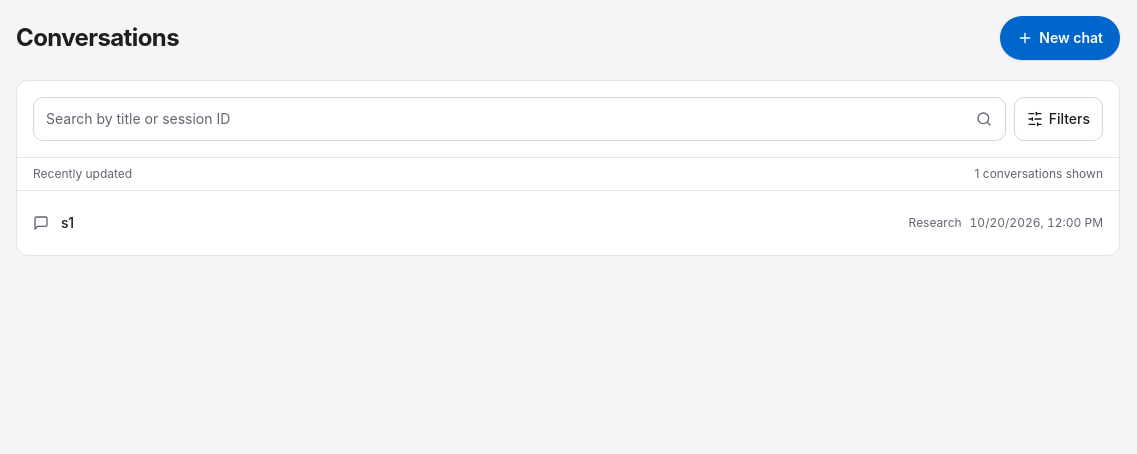
Test case: sessions 全局列表 › 日期条件按本地整天转换，错误范围不请求，空搜索可重置
The image size is (1137, 454).
Expected: the heading "s1" is shown, left=61, top=213, right=74, bottom=233
Expected: the field labelled "Updated from" is not shown
Click the button "Filters" at (1058, 119), box left=1014, top=97, right=1103, bottom=141
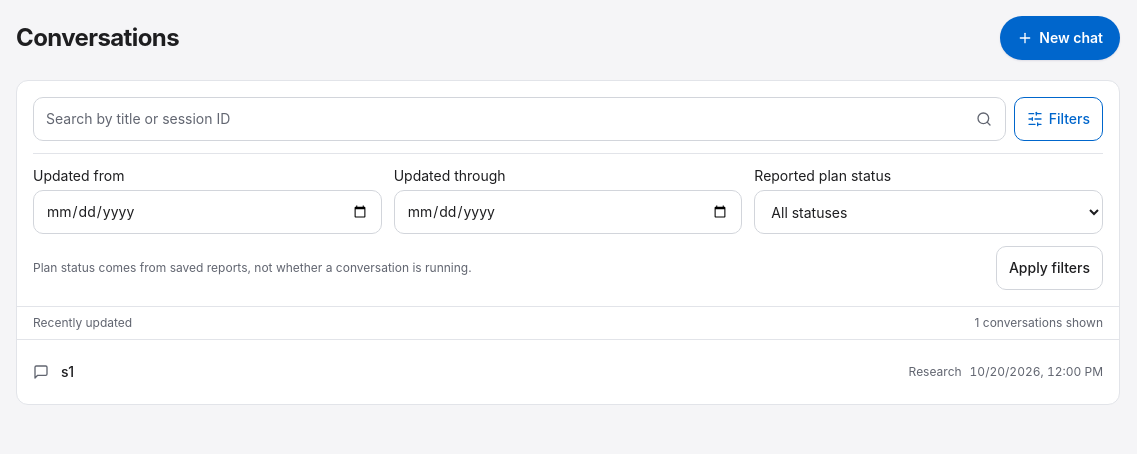
Type "2026-10-22" into the date field labelled "Updated from" at (207, 212), box left=33, top=190, right=382, bottom=234
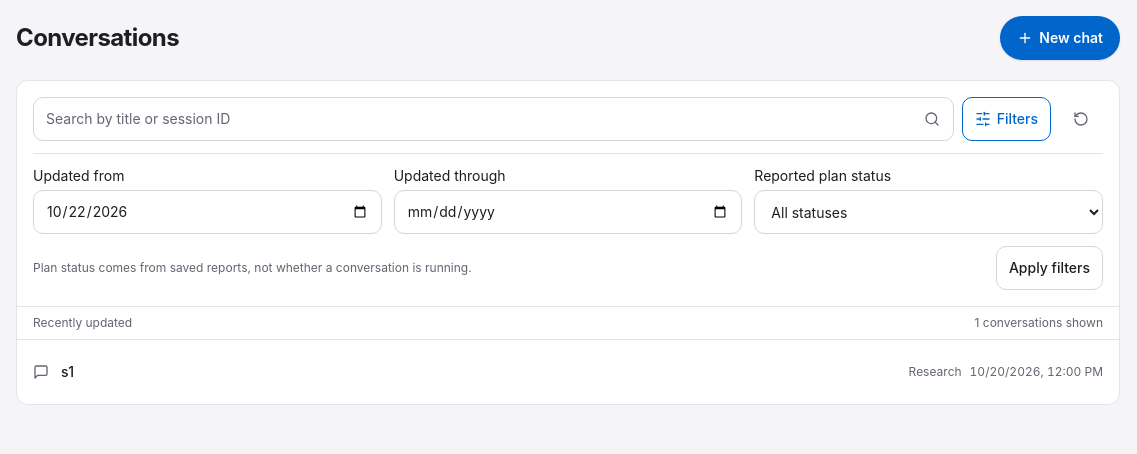
Type "2026-10-20" into the date field labelled "Updated through" at (568, 212), box left=394, top=190, right=742, bottom=234
Click the button named "Search" at (932, 119), box left=910, top=97, right=954, bottom=141
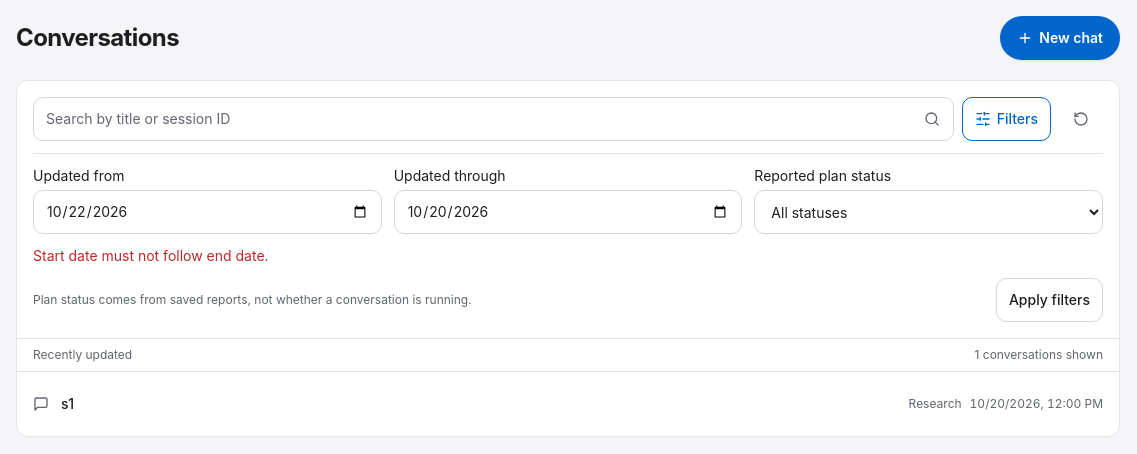
Now the message reads "Start date must not follow end date.", box left=33, top=247, right=269, bottom=264
Type "2026-10-20" into the date field labelled "Updated from" at (207, 212), box left=33, top=190, right=382, bottom=234
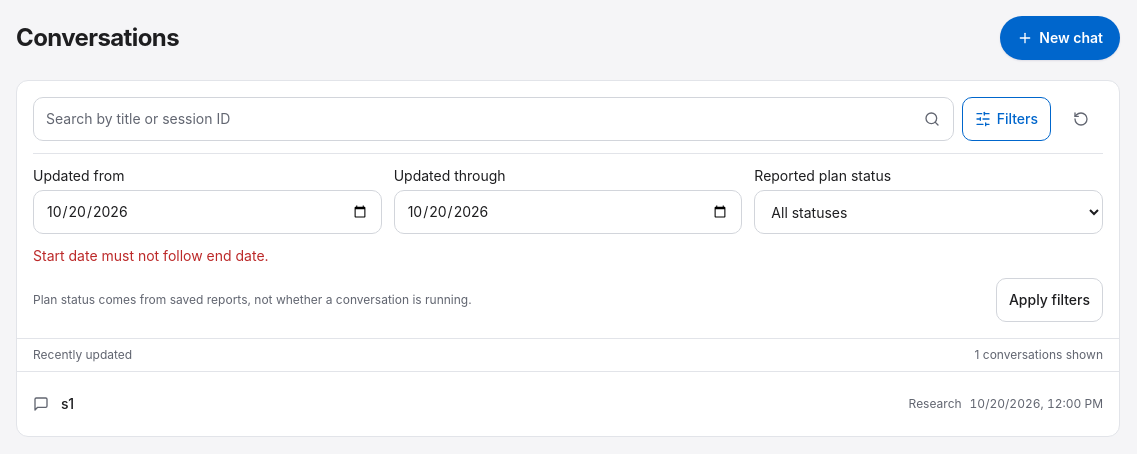
Click the button named "Search" at (932, 119), box left=910, top=97, right=954, bottom=141
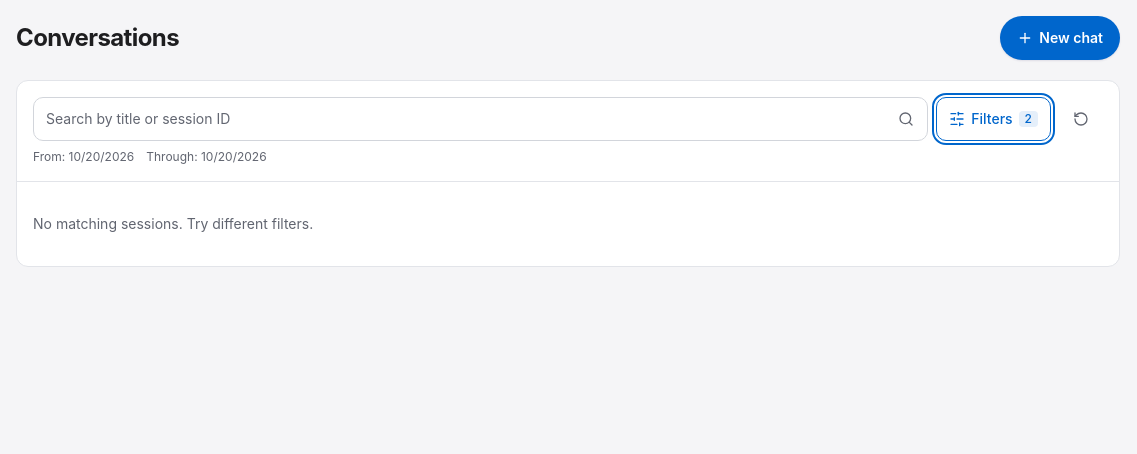
Now the text "No matching sessions. Try different filters." is shown, box left=33, top=215, right=313, bottom=232
Now the button "Filters 2" is collapsed, box left=936, top=97, right=1051, bottom=141
Click the button named "Reset" at (1081, 119), box left=1059, top=97, right=1103, bottom=141
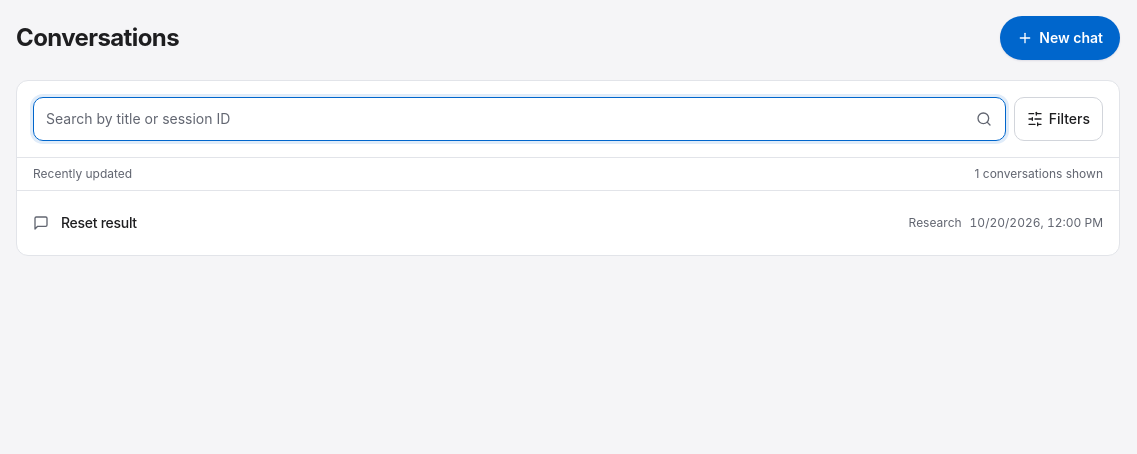
Now the heading "Reset result" is shown, box left=61, top=213, right=137, bottom=233
